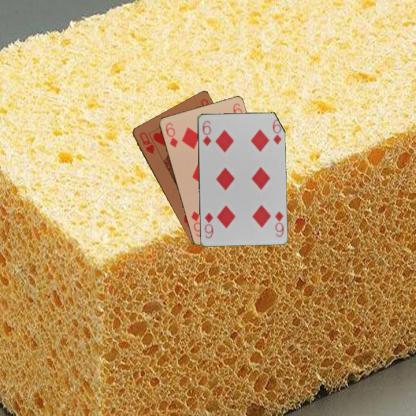6d: (162, 120, 179, 148), (272, 209, 285, 238), (200, 118, 212, 147)
Qh: (136, 129, 155, 155)
